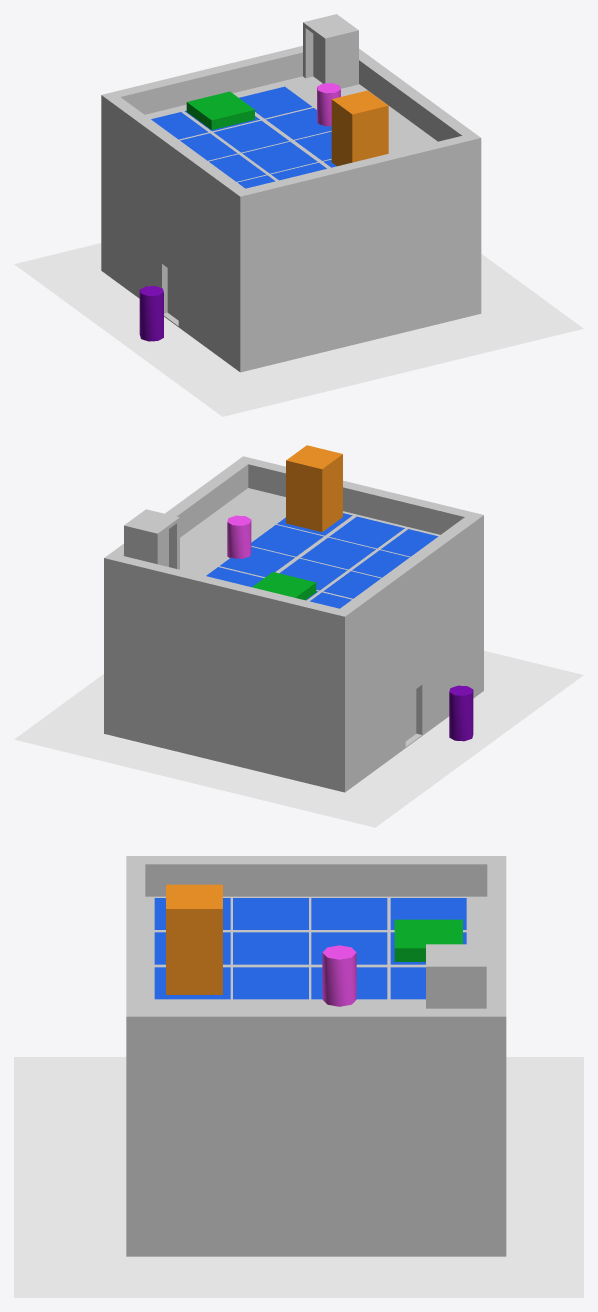
Rendered from StandardHomeScale.glb.
3 views of the same model, one above another, from view 1: azimuth 30°, elevation 25°; view 2: azimuth 150°, elevation 25°; view 3: azimuth 270°, elevation 25° (orthographic). The views are drawn at different scales.
Visible parts, largest first — view 1: StandardBuilding2, MeshInstance3D, CSGBox3D6, RaisedBedScale2, GridSpace7, GridSpace6, NPCScale2, GridSpace9, GridSpace10, GridSpace, GridSpace3, GridSpace2 (+2 smaller); view 2: StandardBuilding2, MeshInstance3D, CSGBox3D6, GridSpace8, GridSpace7, GridSpace11, NPCScale2, GridSpace10, RaisedBedScale2, GridSpace6, PlayerScale2, GridSpace4 (+3 smaller); view 3: StandardBuilding2, MeshInstance3D, CSGBox3D6, GridSpace7, GridSpace11, GridSpace2, GridSpace3, RaisedBedScale2, PlayerScale2, GridSpace6, GridSpace, GridSpace10 (+4 smaller).
Part boxes in pixels (box(x1,y1,x2,y2)): StandardBuilding2: box(101, 14, 481, 372); MeshInstance3D: box(14, 243, 583, 416); CSGBox3D6: box(331, 90, 388, 166); RaisedBedScale2: box(186, 91, 254, 129); GridSpace7: box(242, 141, 317, 173); GridSpace6: box(214, 120, 288, 152); NPCScale2: box(139, 286, 163, 341); GridSpace9: box(239, 86, 311, 118); GridSpace10: box(266, 108, 331, 139); GridSpace: box(151, 112, 208, 139); GridSpace3: box(209, 154, 265, 181); GridSpace2: box(180, 133, 237, 160); StandardBuilding2: box(104, 456, 483, 792); MeshInstance3D: box(14, 650, 583, 827); CSGBox3D6: box(286, 445, 342, 531); GridSpace8: box(329, 516, 404, 548); GridSpace7: box(300, 537, 375, 569); GridSpace11: box(251, 525, 323, 556); NPCScale2: box(449, 685, 473, 741); GridSpace10: box(220, 547, 294, 577); RaisedBedScale2: box(252, 572, 316, 600); GridSpace6: box(279, 558, 347, 590); PlayerScale2: box(227, 515, 251, 558); GridSpace4: box(381, 529, 438, 556); StandardBuilding2: box(126, 856, 506, 1256); MeshInstance3D: box(14, 1057, 583, 1297); CSGBox3D6: box(166, 884, 222, 994); GridSpace7: box(233, 932, 308, 964); GridSpace11: box(233, 967, 308, 999); GridSpace2: box(311, 898, 387, 929); GridSpace3: box(233, 898, 308, 929); RaisedBedScale2: box(394, 919, 462, 961); PlayerScale2: box(322, 945, 356, 1006); GridSpace6: box(311, 932, 387, 964); GridSpace: box(390, 898, 466, 929); GridSpace10: box(311, 967, 387, 999).
Size of the model in its own units: 15 by 8.62 by 15.
